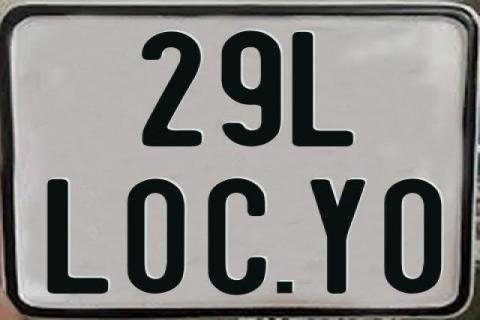0: (219, 28, 282, 145), (139, 31, 201, 149), (126, 178, 188, 296), (384, 178, 446, 294)
C: (205, 177, 266, 295)
L: (292, 30, 357, 146), (48, 180, 110, 298)
Y: (310, 177, 371, 296)
